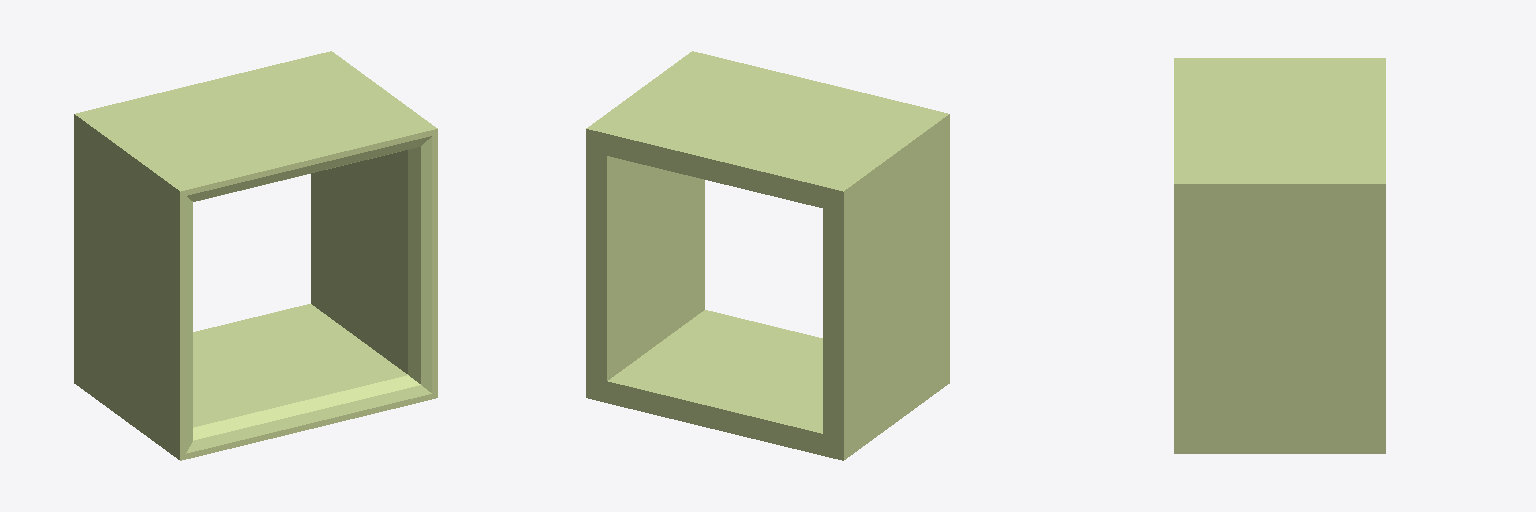
Rendered from TIle.obj.
3 renders of one model, left to right at view 1: azimuth 30°, elevation 25°; view 2: azimuth 150°, elevation 25°; view 3: azimuth 270°, elevation 25°, orthographic.
Parts seen in each view (by area): view 1: Tile; view 2: Tile; view 3: Tile.
Part boxes in pixels (left/top/right/bottom): Tile: left=74, top=51, right=437, bottom=460; Tile: left=586, top=51, right=949, bottom=460; Tile: left=1174, top=58, right=1385, bottom=453.
Bounding box in the file's own units: 1.4 × 1.4 × 1.